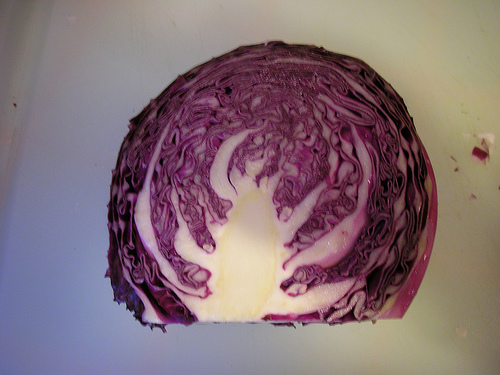cabbage: (103, 39, 439, 335)
